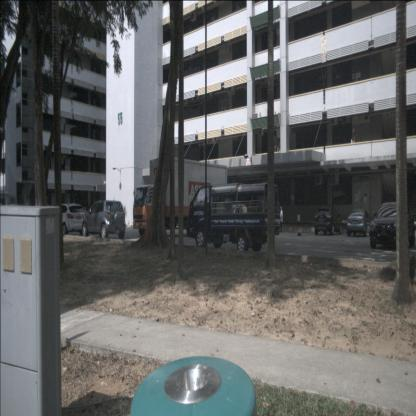human-pedestrian-adult: (280, 206, 283, 232)
vehicle-car: (370, 202, 415, 248), (82, 200, 126, 240), (47, 204, 86, 236), (314, 207, 342, 236), (346, 209, 372, 237)
vehicle-truck: (133, 156, 227, 238), (186, 183, 281, 253)
